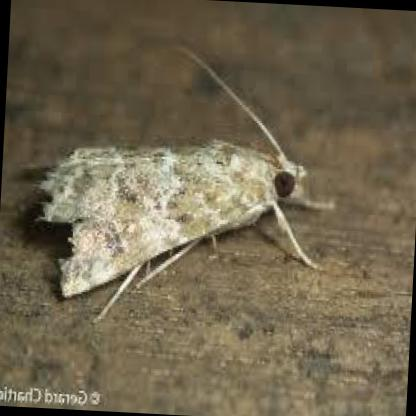Hellula undalis: (29, 36, 346, 333)
